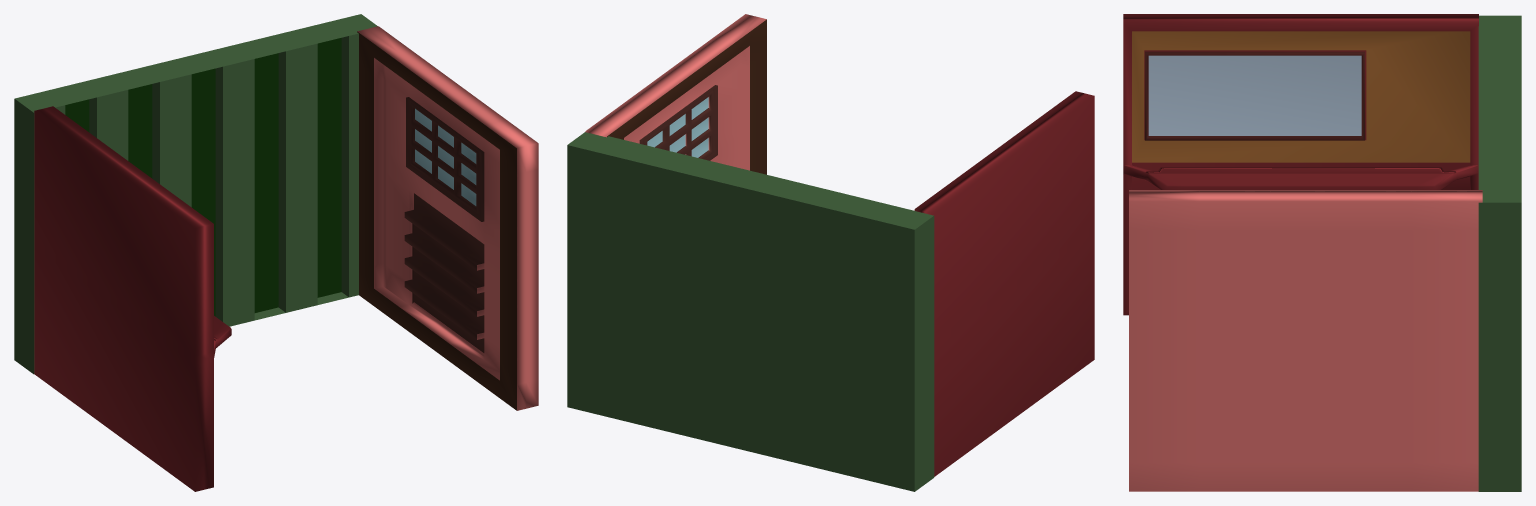
File: spawnroomdoors.fbx
The picture shows the model from 3 angles, left to right: view 1: azimuth 30°, elevation 25°; view 2: azimuth 150°, elevation 25°; view 3: azimuth 270°, elevation 25°; orthographic projection. The views are drawn at different scales.
Visible parts, largest first — view 1: Cube.002, Cube, Cube.001; view 2: Cube.002, Cube, Cube.001; view 3: Cube.001, Cube, Cube.002.
Part boxes in pixels (left/top/right/bottom): Cube.002: left=14, top=14, right=377, bottom=374; Cube: left=34, top=106, right=231, bottom=491; Cube.001: left=357, top=26, right=538, bottom=410; Cube.002: left=567, top=132, right=934, bottom=491; Cube: left=914, top=91, right=1094, bottom=476; Cube.001: left=585, top=14, right=766, bottom=174; Cube.001: left=1129, top=190, right=1482, bottom=491; Cube: left=1123, top=14, right=1478, bottom=315; Cube.002: left=1478, top=15, right=1521, bottom=491.
Bounding box in the file's own units: 573 × 416 × 515.
